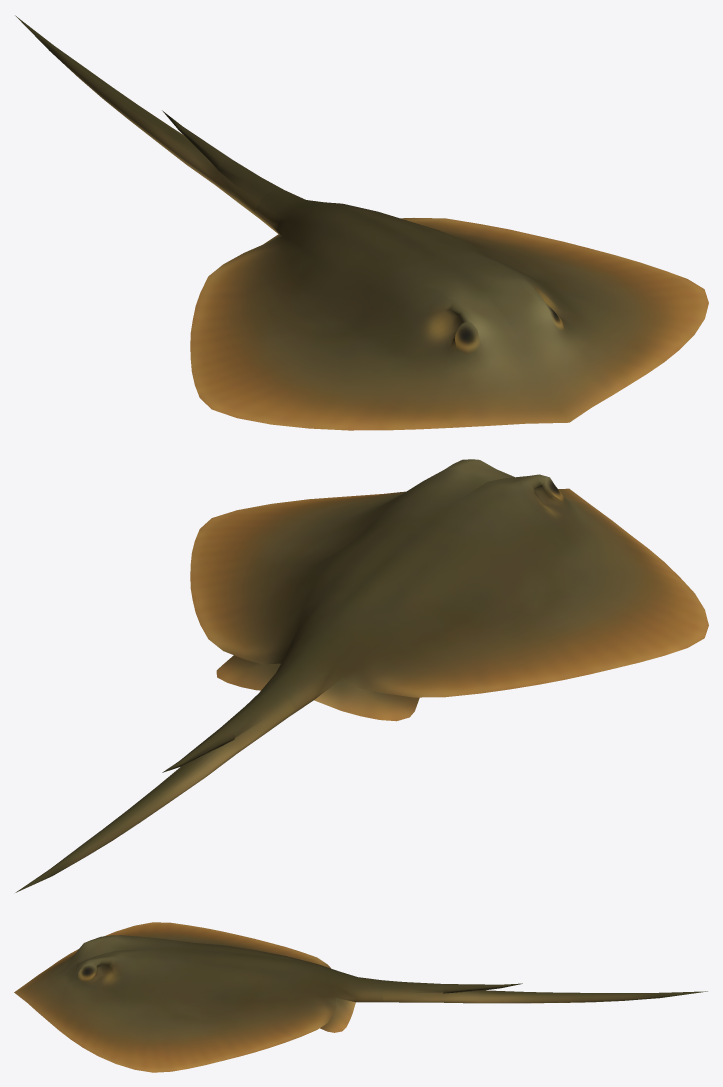
File: ray.glb
The picture shows the model from 3 angles, top to bottom: view 1: azimuth 30°, elevation 25°; view 2: azimuth 150°, elevation 25°; view 3: azimuth 270°, elevation 25°; orthographic projection. The views are drawn at different scales.
Parts seen in each view (by area): view 1: FishEi__mEi; view 2: FishEi__mEi; view 3: FishEi__mEi.
Part boxes in pixels (left/top/right/bottom): FishEi__mEi: left=15, top=15, right=708, bottom=430; FishEi__mEi: left=15, top=459, right=708, bottom=892; FishEi__mEi: left=14, top=922, right=707, bottom=1072.
Size of the model in its own units: 9.67 by 1.71 by 18.87.
Materials: 1 (1 with a texture image).
